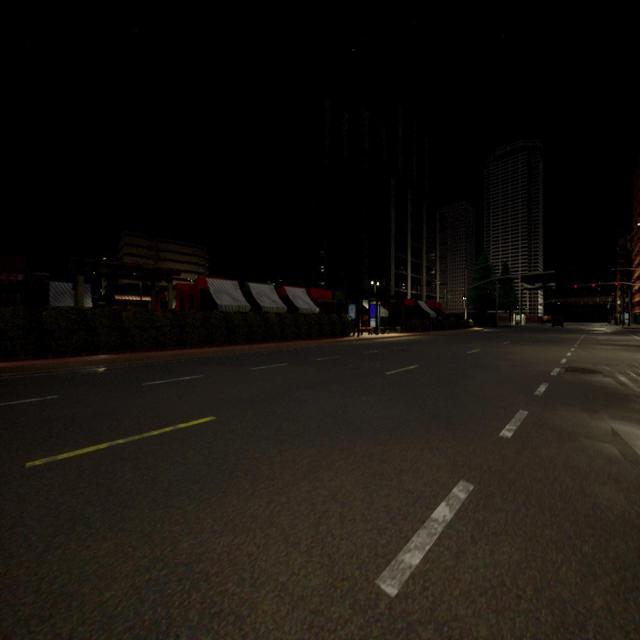Vehicle: (552, 314, 564, 328)
traffic_light: (574, 284, 577, 288), (592, 283, 595, 287), (615, 282, 618, 286)
